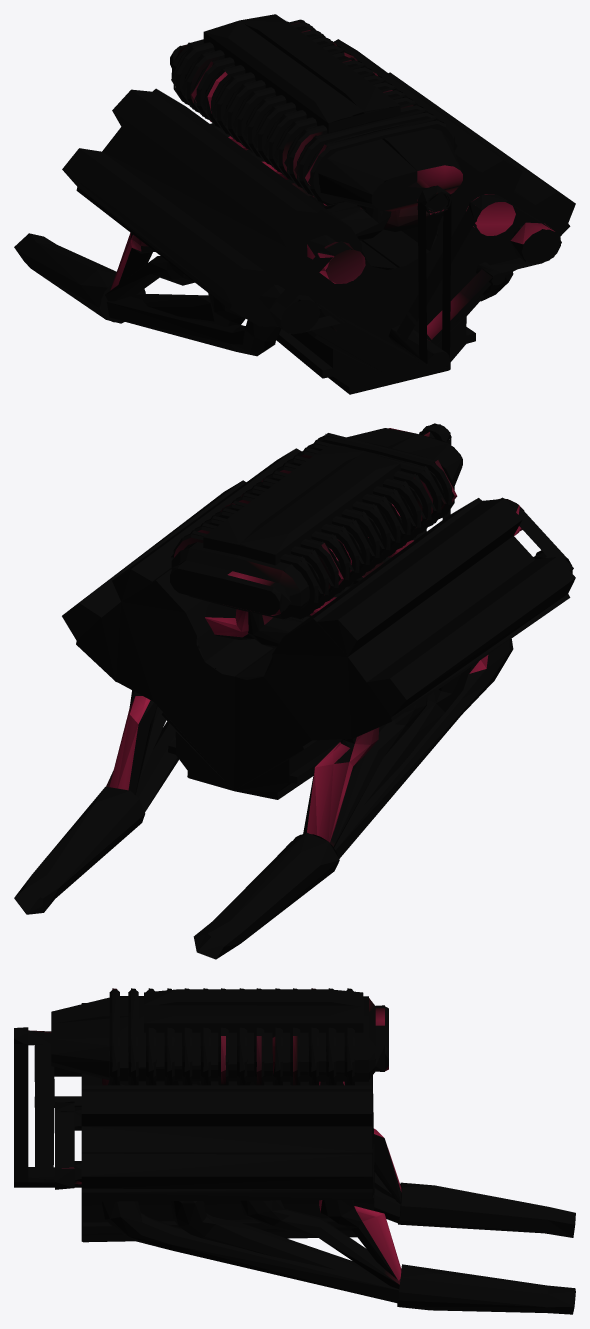
The picture shows the model from 3 angles, top to bottom: view 1: azimuth 30°, elevation 25°; view 2: azimuth 150°, elevation 25°; view 3: azimuth 270°, elevation 25°; orthographic projection. The views are drawn at different scales.
Parts seen in each view (by area): view 1: motor_body.001; view 2: motor_body.001; view 3: motor_body.001.
Part boxes in pixels (x1,y1,x2,y2): motor_body.001: (14,14,575,394); motor_body.001: (14,423,575,959); motor_body.001: (14,988,575,1314).
Bounding box in the file's own units: 0.7275 × 0.614 × 1.15.
